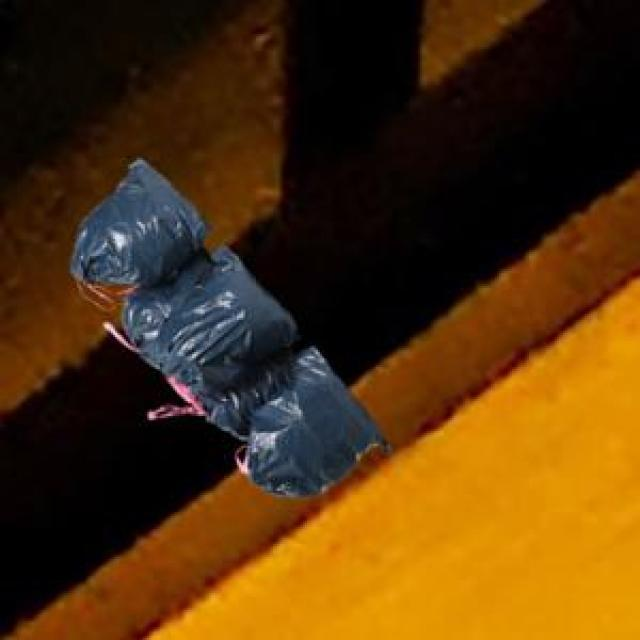Vinyl: (71, 160, 384, 496)
